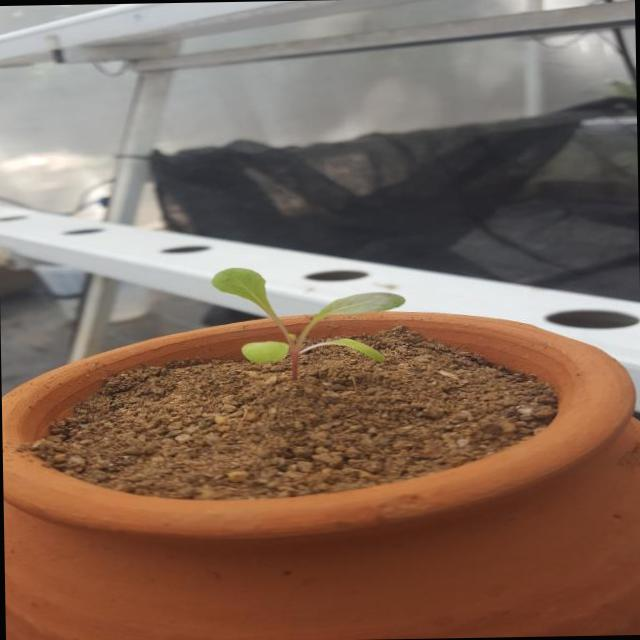Lettuce-Not-Ready-to-Harvest: (210, 268, 406, 380)
